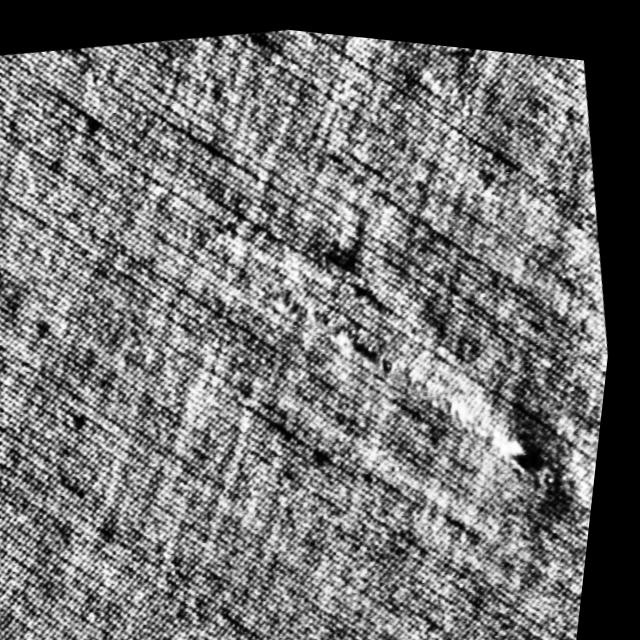Stitch: (232, 239, 606, 530), (364, 312, 590, 525)
